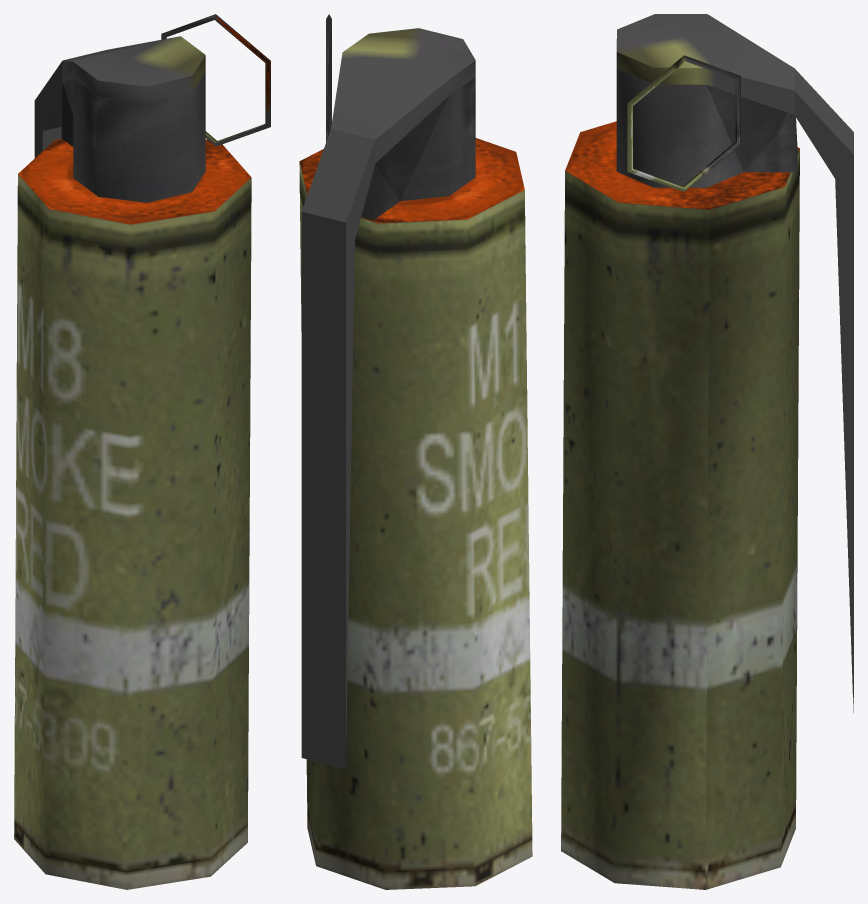
Rendered from smok_3RD.glb.
The picture shows the model from 3 angles, left to right: view 1: azimuth 30°, elevation 25°; view 2: azimuth 150°, elevation 25°; view 3: azimuth 270°, elevation 25°; orthographic projection. The views are drawn at different scales.
Parts seen in each view (by area): view 1: _smok_3RD; view 2: _smok_3RD; view 3: _smok_3RD.
Part boxes in pixels (x1,y1,x2,y2): _smok_3RD: (14,14,270,889); _smok_3RD: (299,14,532,889); _smok_3RD: (561,14,853,889).
Bounding box in the file's own units: 0.0638 × 0.229 × 0.0733.
Materials: 1 (1 with a texture image).
